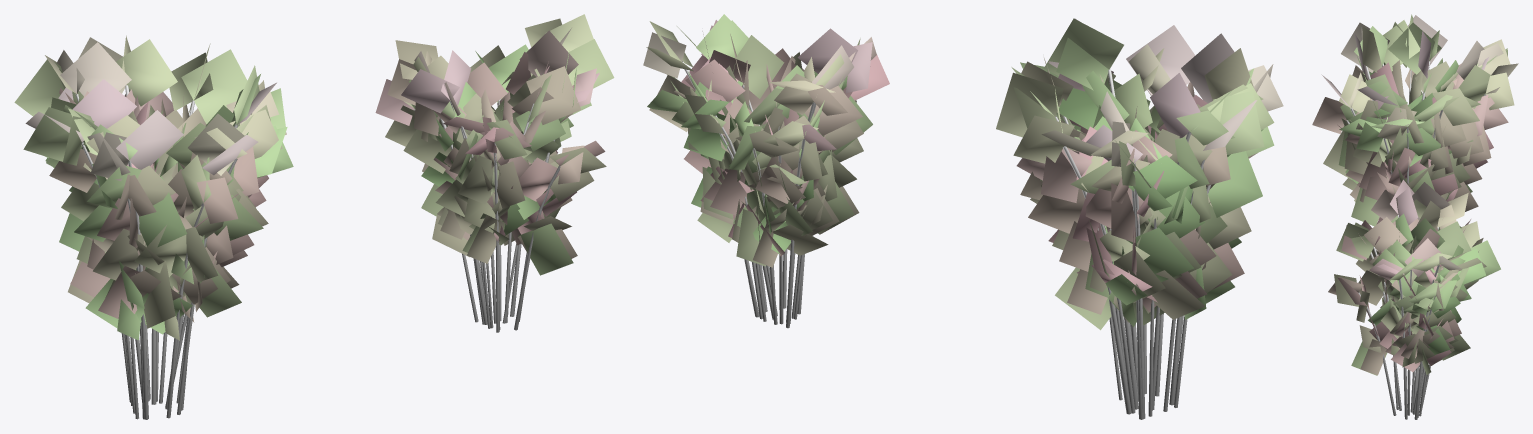
File: Bamboo.fbx
The picture shows the model from 3 angles, left to right: view 1: azimuth 30°, elevation 25°; view 2: azimuth 150°, elevation 25°; view 3: azimuth 270°, elevation 25°; orthographic projection. The views are drawn at different scales.
Parts seen in each view (by area): view 1: Bamboo_A_LOD0, Bamboo_B_LOD0; view 2: Bamboo_A_LOD0, Bamboo_B_LOD0; view 3: Bamboo_A_LOD0, Bamboo_B_LOD0.
Part boxes in pixels (bbox=[...]): Bamboo_A_LOD0: bbox=[14, 35, 293, 419]; Bamboo_B_LOD0: bbox=[375, 14, 614, 332]; Bamboo_A_LOD0: bbox=[996, 18, 1283, 419]; Bamboo_B_LOD0: bbox=[643, 14, 889, 328]; Bamboo_A_LOD0: bbox=[1312, 14, 1518, 226]; Bamboo_B_LOD0: bbox=[1328, 179, 1500, 419].
Size of what is drawn, in the model's own units: 17.32 by 9.7 by 7.4.
